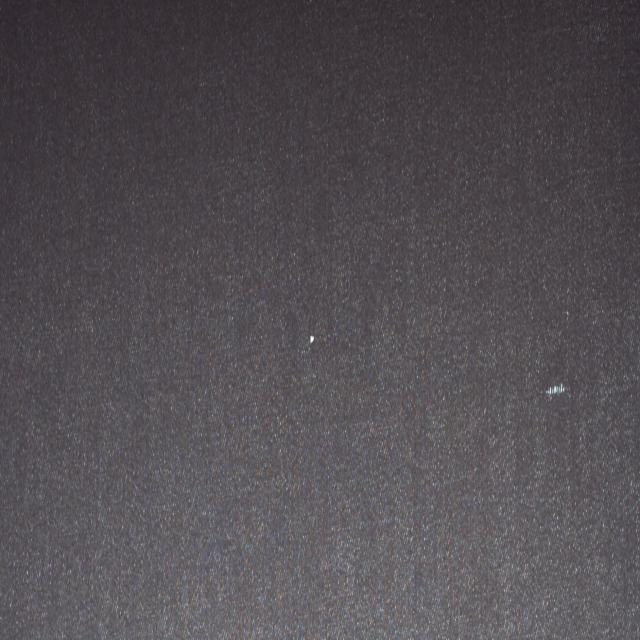Knot: (542, 383, 569, 395)
